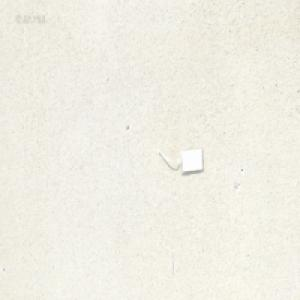LuggageTag: (156, 147, 204, 173)
